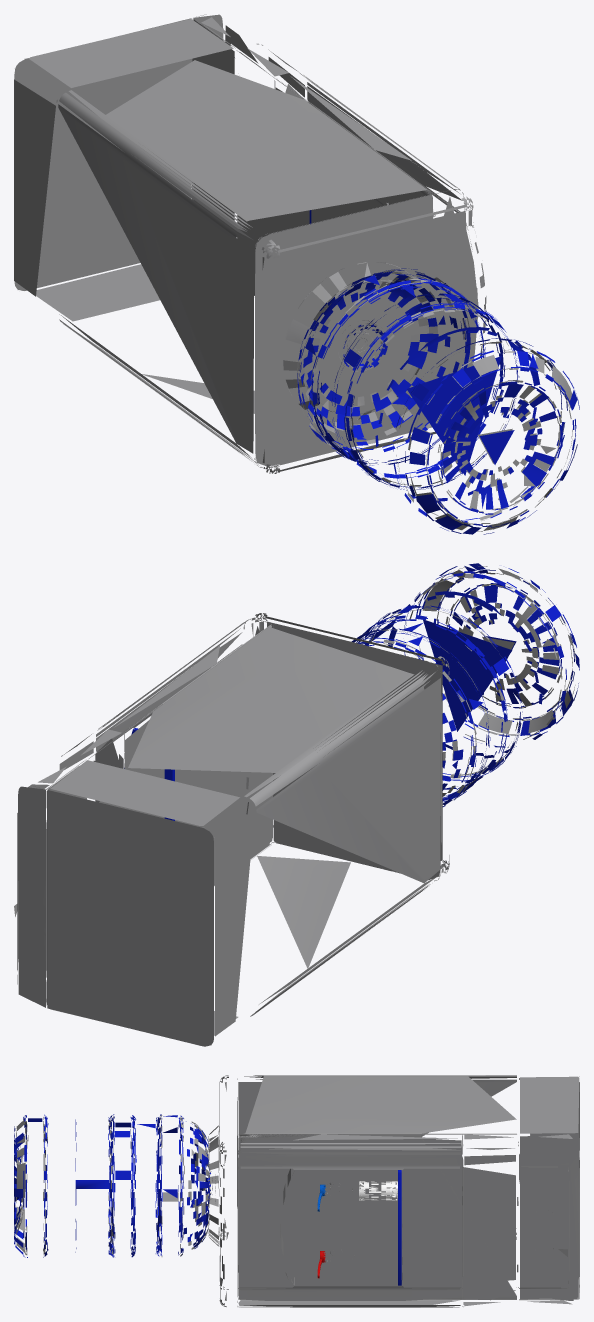
File: water_dispenser.obj
3 renders of one model, top to bottom at view 1: azimuth 30°, elevation 25°; view 2: azimuth 150°, elevation 25°; view 3: azimuth 270°, elevation 25°, orthographic. The views are drawn at different scales.
Visible parts, largest first — view 1: part_0, part_1; view 2: part_0, part_1; view 3: part_0, part_1, part_5, part_4.
Part boxes in pixels (x1,y1,x2,y2): part_0: (14, 14, 572, 531); part_1: (297, 268, 579, 534); part_0: (14, 566, 576, 1046); part_1: (351, 563, 579, 806); part_0: (16, 1075, 579, 1307); part_1: (14, 1114, 210, 1257); part_5: (359, 1181, 397, 1200); part_4: (398, 1170, 401, 1285).
Bounding box in the file's own units: 0.5019 × 0.5 × 1.54.
